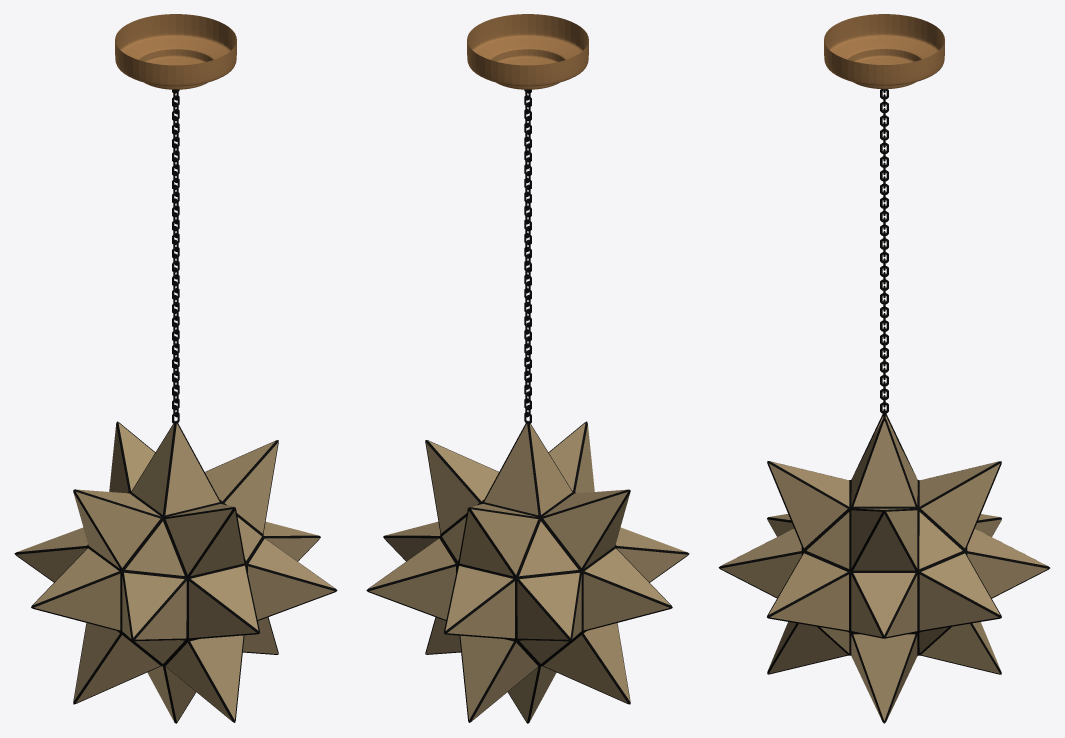
Rendered from tar_lamp.obj.
The picture shows the model from 3 angles, left to right: view 1: azimuth 30°, elevation 25°; view 2: azimuth 150°, elevation 25°; view 3: azimuth 270°, elevation 25°; orthographic projection.
Visible parts, largest first — view 1: globe_Circle, base_Circle.002, chain_Torus.001; view 2: globe_Circle, base_Circle.002, chain_Torus.001; view 3: globe_Circle, base_Circle.002, chain_Torus.001.
Boxes of the visible parts, x1,y1,x2,y2 form: globe_Circle: [14, 421, 337, 723]; base_Circle.002: [115, 14, 236, 89]; chain_Torus.001: [172, 89, 179, 423]; globe_Circle: [366, 421, 689, 723]; base_Circle.002: [467, 14, 588, 89]; chain_Torus.001: [524, 89, 531, 423]; globe_Circle: [718, 413, 1049, 723]; base_Circle.002: [824, 14, 944, 89]; chain_Torus.001: [880, 89, 888, 420].
Bounding box in the file's own units: 1.6 × 3.6 × 1.6.
